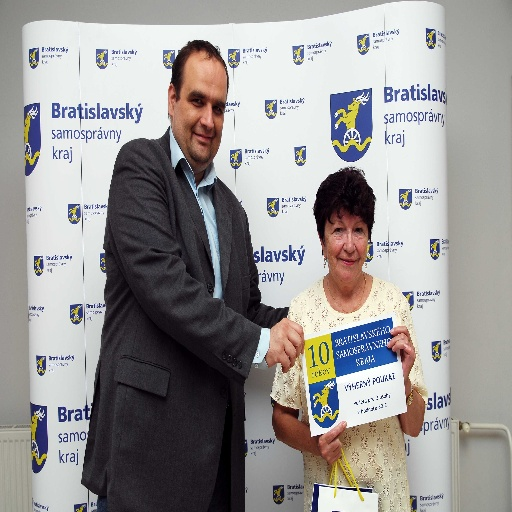hand: (267, 326, 310, 382), (385, 323, 416, 381), (317, 418, 348, 468)
